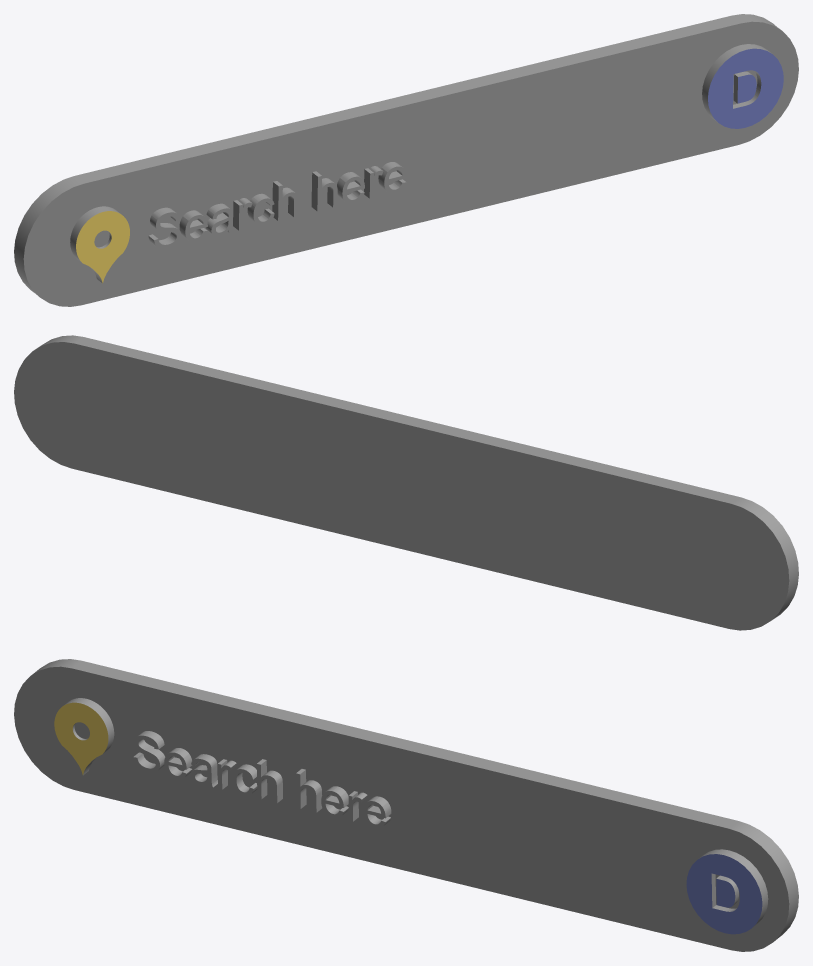
File: searchBar.gltf
The picture shows the model from 3 angles, top to bottom: view 1: azimuth 30°, elevation 25°; view 2: azimuth 150°, elevation 25°; view 3: azimuth 330°, elevation 25°; orthographic projection.
Visible parts, largest first — view 1: Body1; view 2: Body1; view 3: Body1.
Boxes of the visible parts, x1=… form: Body1: x1=14, y1=14, x2=798, y2=306; Body1: x1=14, y1=335, x2=798, y2=630; Body1: x1=14, y1=659, x2=798, y2=951.
Bounding box in the file's own units: 0.23 × 0.0352 × 0.00901.
